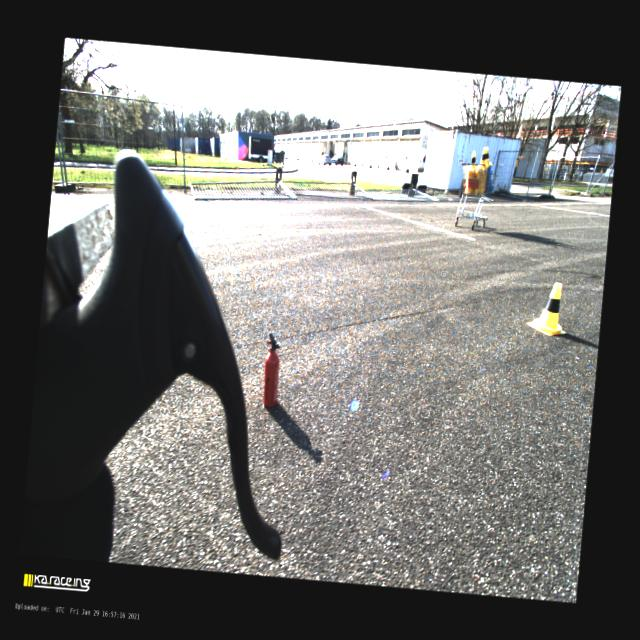yellow_cone: (525, 279, 570, 338), (478, 146, 489, 168), (468, 149, 478, 168), (484, 146, 492, 164)
